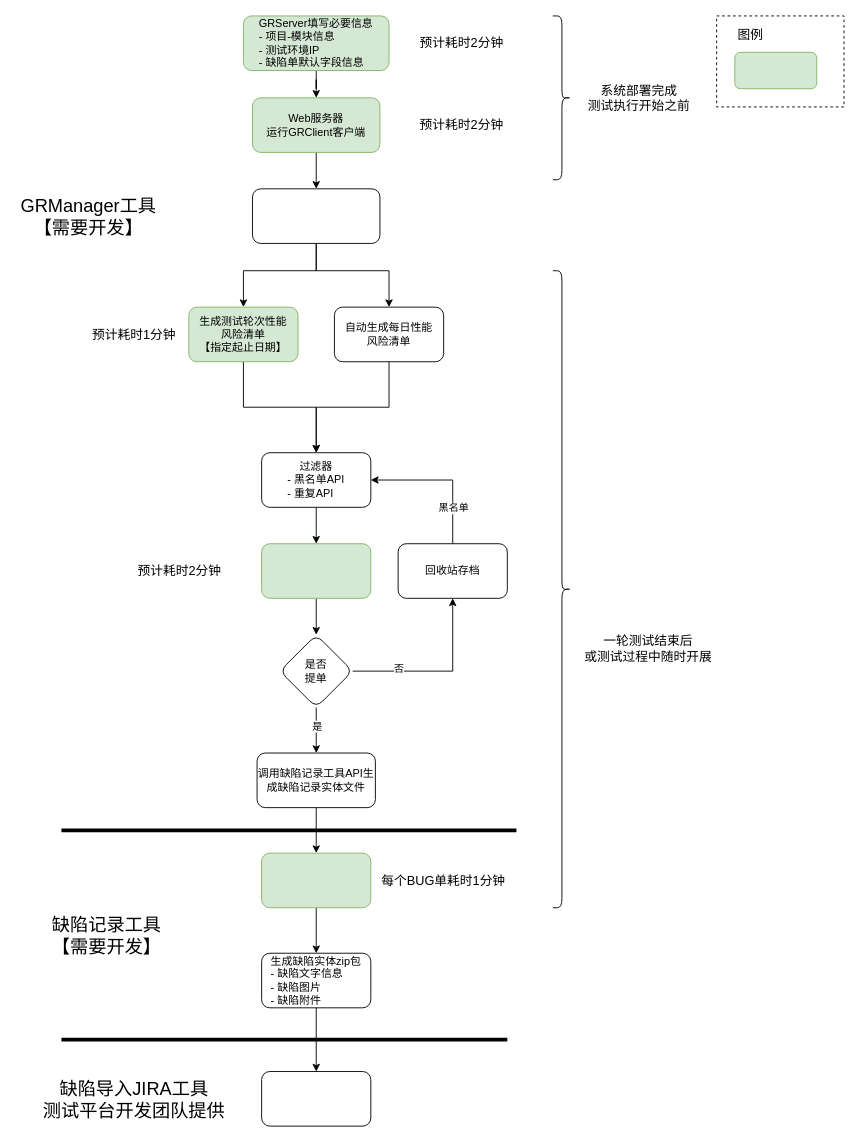
This 860x1142 diagram has some shape labels left out. The shapes that lost their labels are listed below. From the top down, each one's centre as x and y in pixels, then its label:
the point at 775,70: 用户操作环节
the point at 316,215: GRServer 查看项目-模块APM信息
the point at 316,570: 审核性能风险清单 - 批量操作
the point at 316,880: 编辑补充缺陷信息 - 归属人 - 重要程度 - ……
the point at 316,1098: JIRA录入工具解析缺陷实体文件完成缺陷录入
